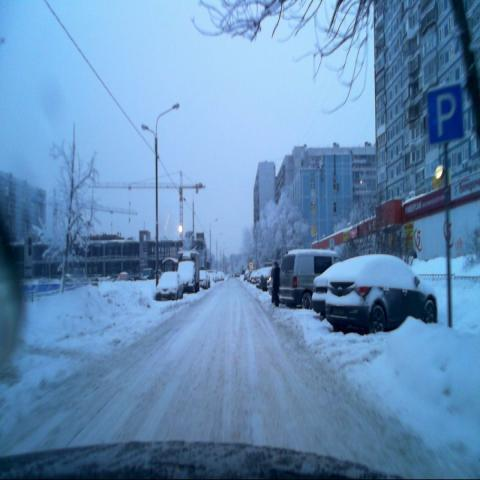6_4: (427, 85, 463, 142)
